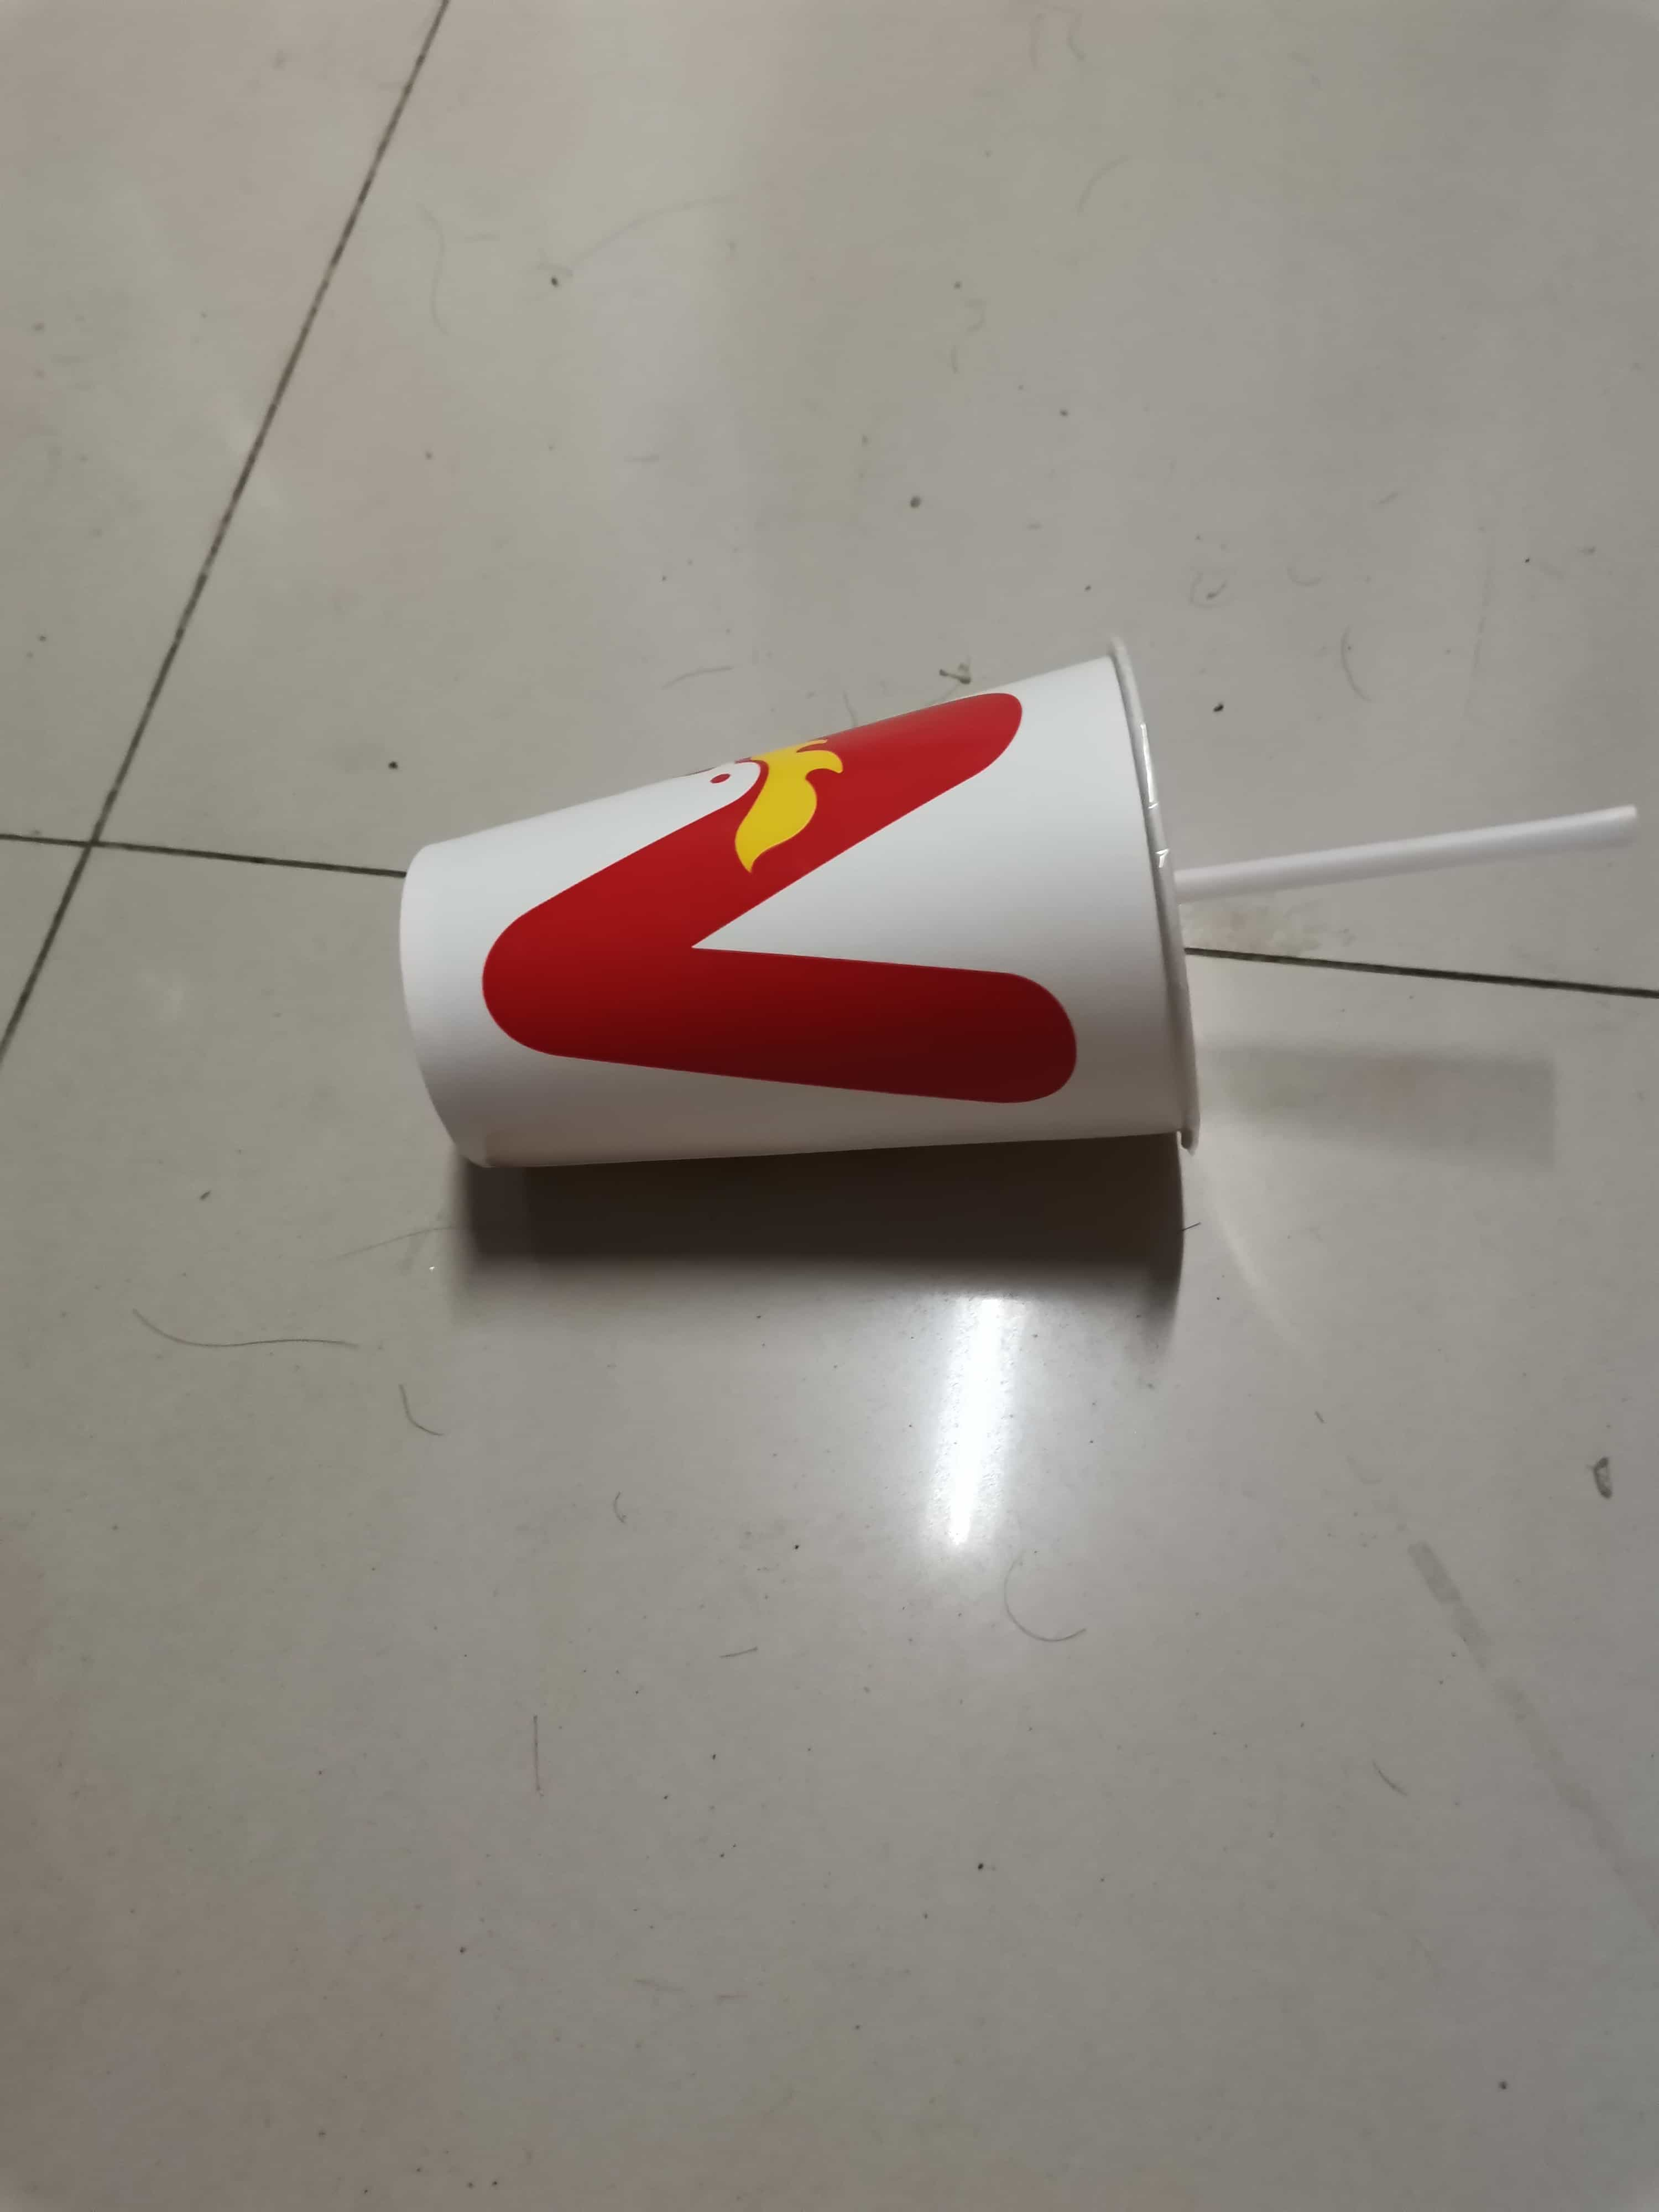cup: (375, 624, 1234, 1193)
